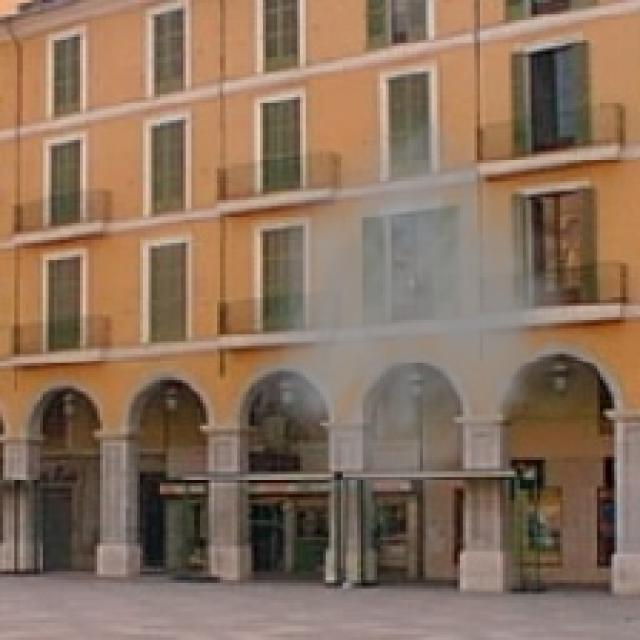Smoke: (254, 100, 606, 520)
